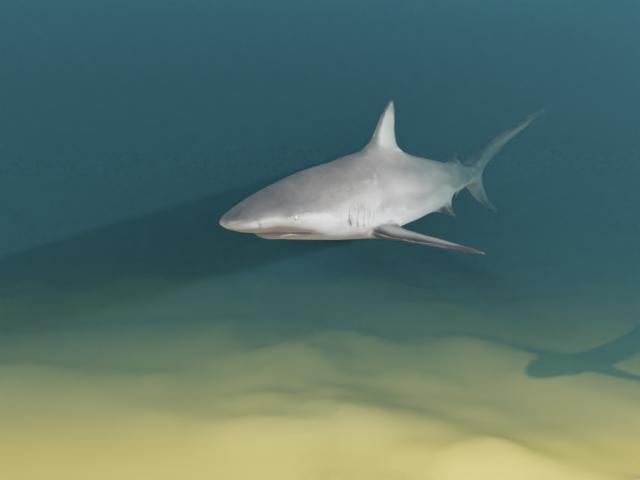Carribean Shark.001: (219, 100, 544, 254)
